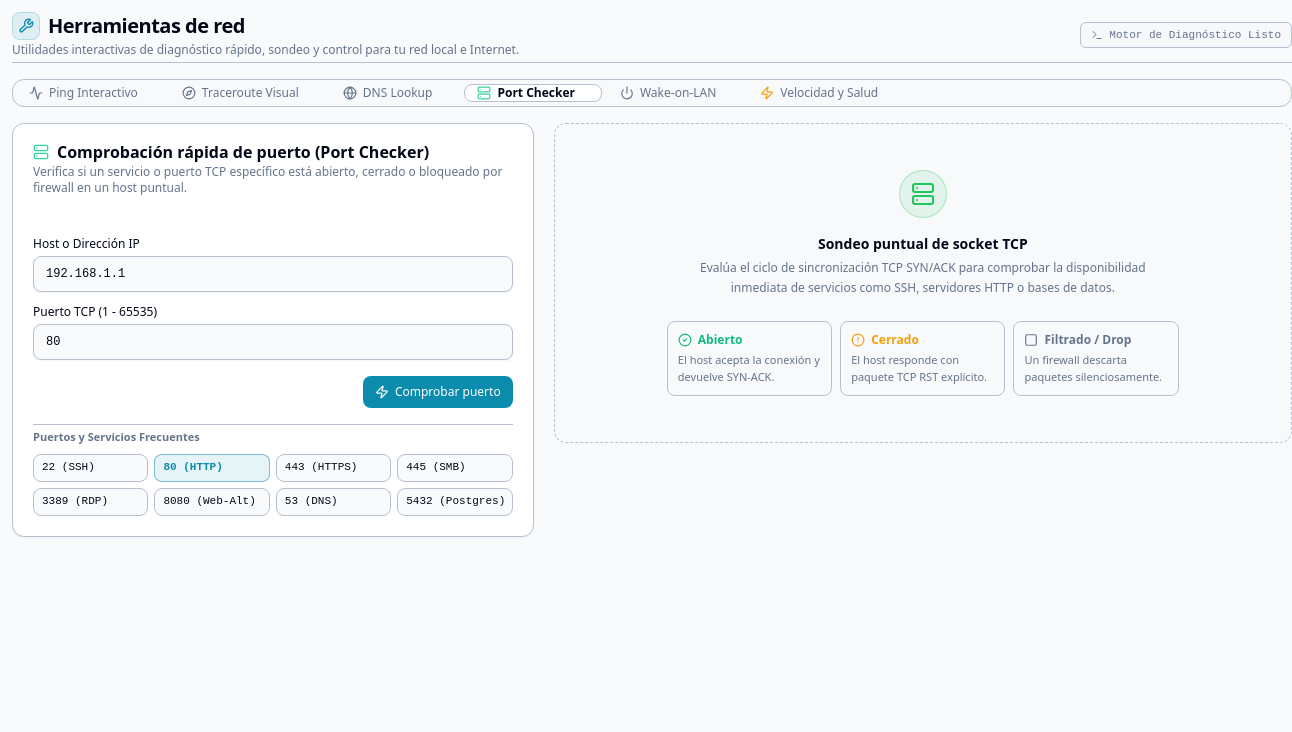
it: Tools Screen › checks TCP port and displays latency and state
This screenshot has width=1292, height=732.
Click the button "Comprobar puerto" at (438, 392), box [363,376,513,408]
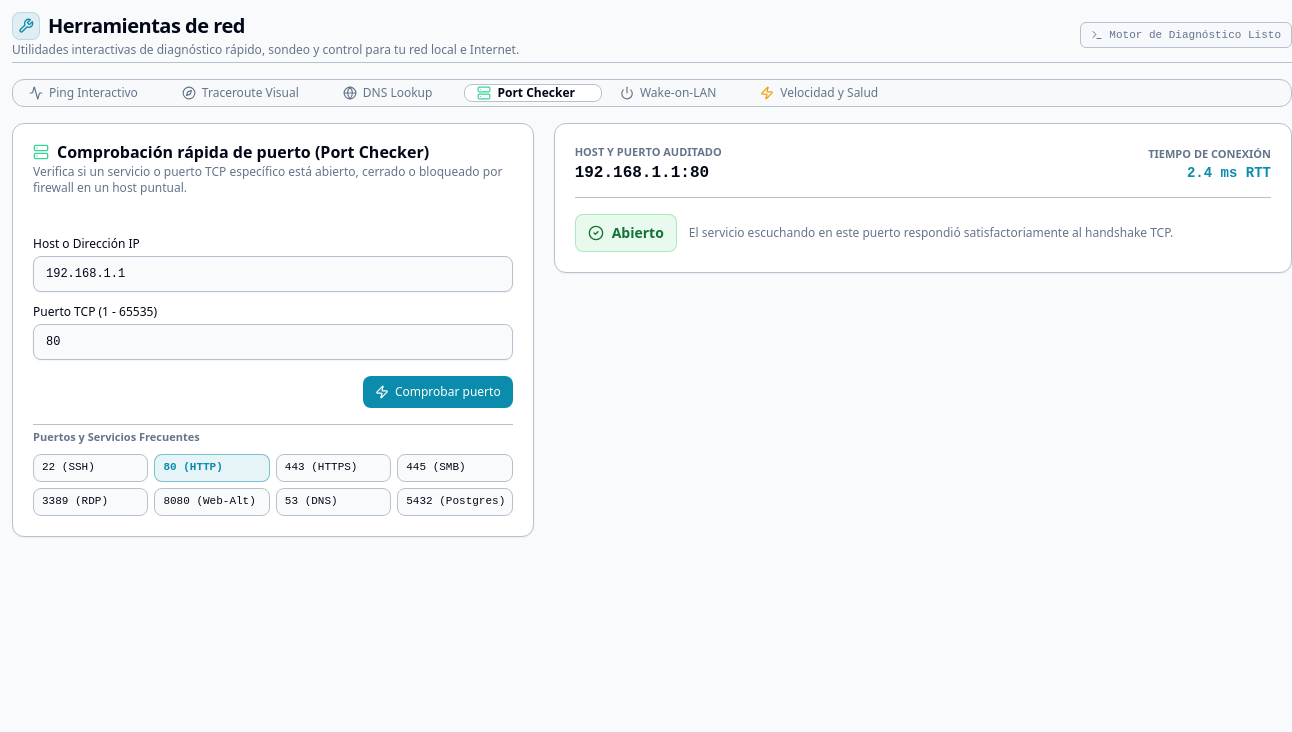
Expected: the text "Abierto" is shown, [612,222,664,242]
Expected: the text "2.4 ms RTT" is shown, [1187,162,1271,182]
